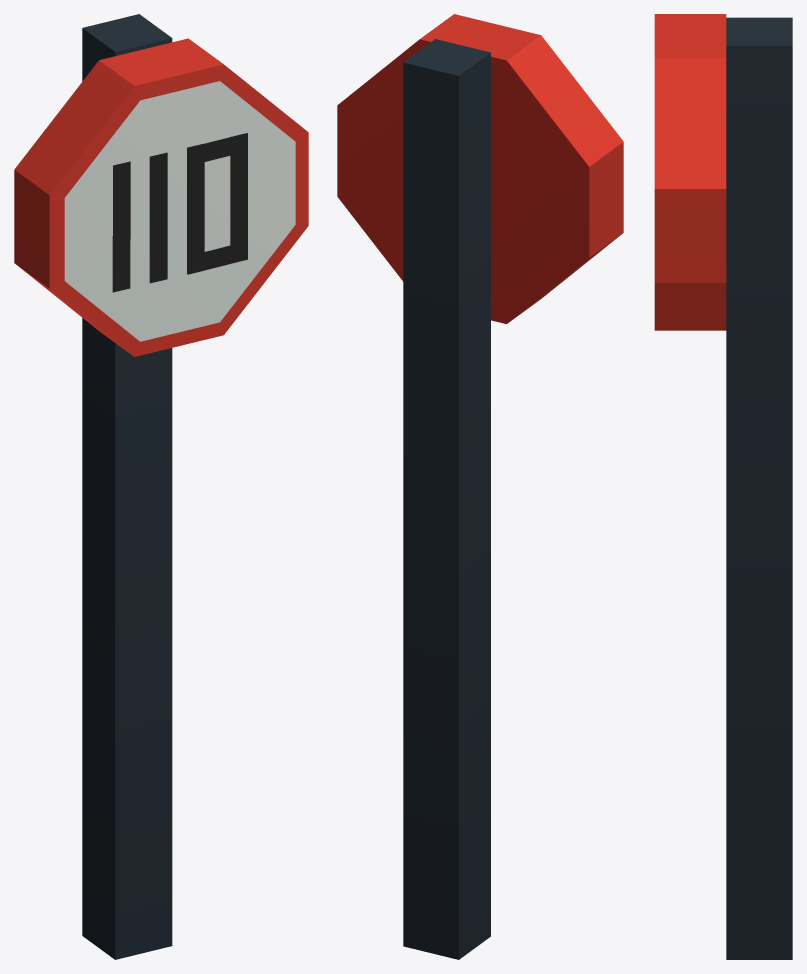
File: Road_sign_max_Speed_110.fbx
3 renders of one model, left to right at view 1: azimuth 30°, elevation 25°; view 2: azimuth 150°, elevation 25°; view 3: azimuth 270°, elevation 25°, orthographic. The views are drawn at different scales.
Parts seen in each view (by area): view 1: Road_sign_max_Speed_110; view 2: Road_sign_max_Speed_110; view 3: Road_sign_max_Speed_110.
Boxes of the visible parts, x1,y1,x2,y2 form: Road_sign_max_Speed_110: [14, 14, 308, 959]; Road_sign_max_Speed_110: [337, 14, 623, 959]; Road_sign_max_Speed_110: [654, 14, 792, 959].
Bounding box in the file's own units: 107 × 359 × 49.94.
